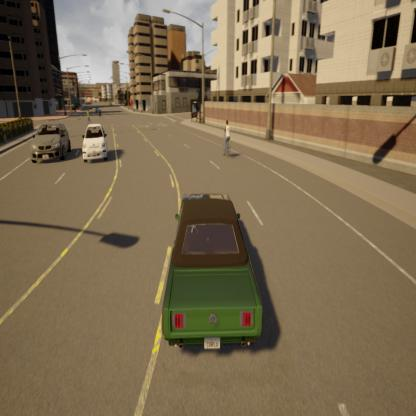Cars: (147, 185, 274, 359), (29, 112, 71, 166), (78, 119, 112, 166)
Pedestrian: (82, 102, 94, 134)
